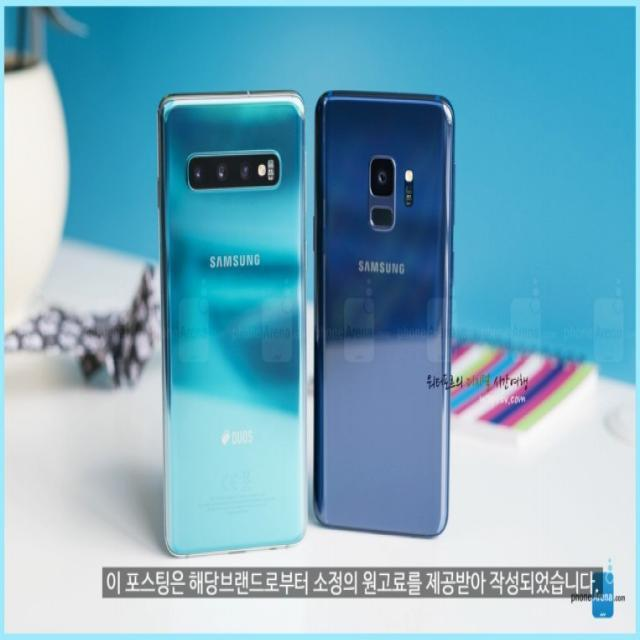phone: (157, 90, 312, 554), (312, 84, 461, 538)
